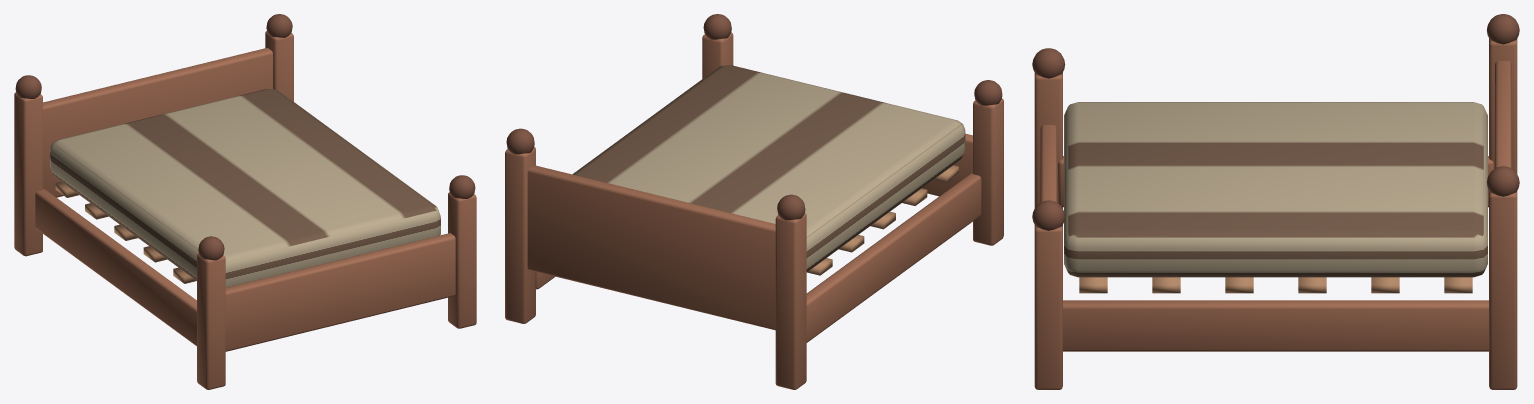
File: wooden-bed.glb
3 views of the same model, side by side, from view 1: azimuth 30°, elevation 25°; view 2: azimuth 150°, elevation 25°; view 3: azimuth 270°, elevation 25° (orthographic). The views are drawn at different scales.
Visible parts, largest first — view 1: mattress, merged_wood, merged_wood_dark, merged_wood_worn; view 2: merged_wood, mattress, merged_wood_dark, merged_wood_worn; view 3: mattress, merged_wood, merged_wood_dark, merged_wood_worn.
Part boxes in pixels (x1,y1,x2,y2): mattress: (50,89,440,287); merged_wood: (14,31,476,389); merged_wood_dark: (15,14,475,260); merged_wood_worn: (55,181,196,283); merged_wood: (505,32,1003,389); mattress: (572,65,965,271); merged_wood_dark: (506,14,1002,220); merged_wood_worn: (807,165,958,275); mattress: (1064,102,1487,277); merged_wood: (1034,38,1517,389); merged_wood_dark: (1032,14,1519,230); merged_wood_worn: (1079,277,1472,293).
Size of the model in its own units: 1.67 by 1.02 by 2.07.
Materials: 4 (1 with a texture image).
